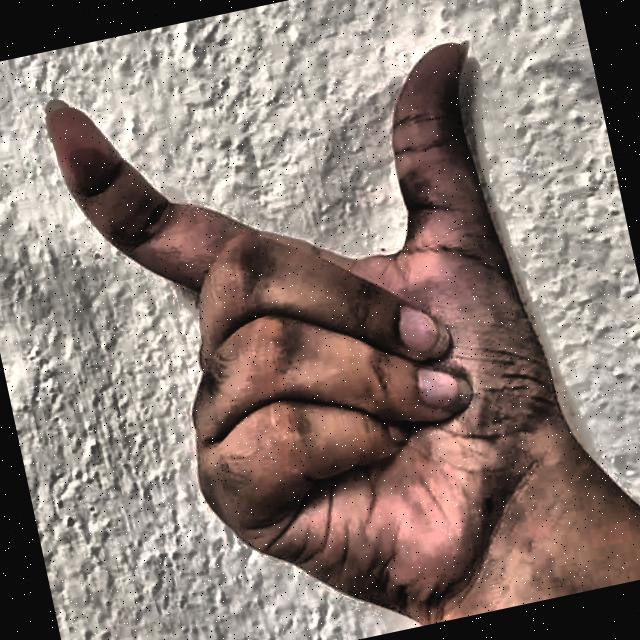ChandraBindu: (11, 0, 631, 640)
